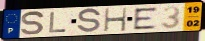3: (160, 4, 183, 30)
E: (133, 6, 158, 31)
H: (103, 7, 128, 33)
L: (48, 11, 68, 34)
S: (76, 7, 103, 34), (21, 10, 46, 36)
